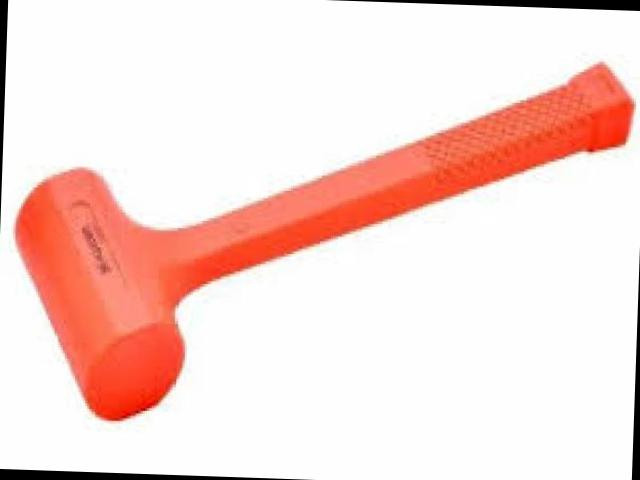hammer: (10, 40, 634, 442)
